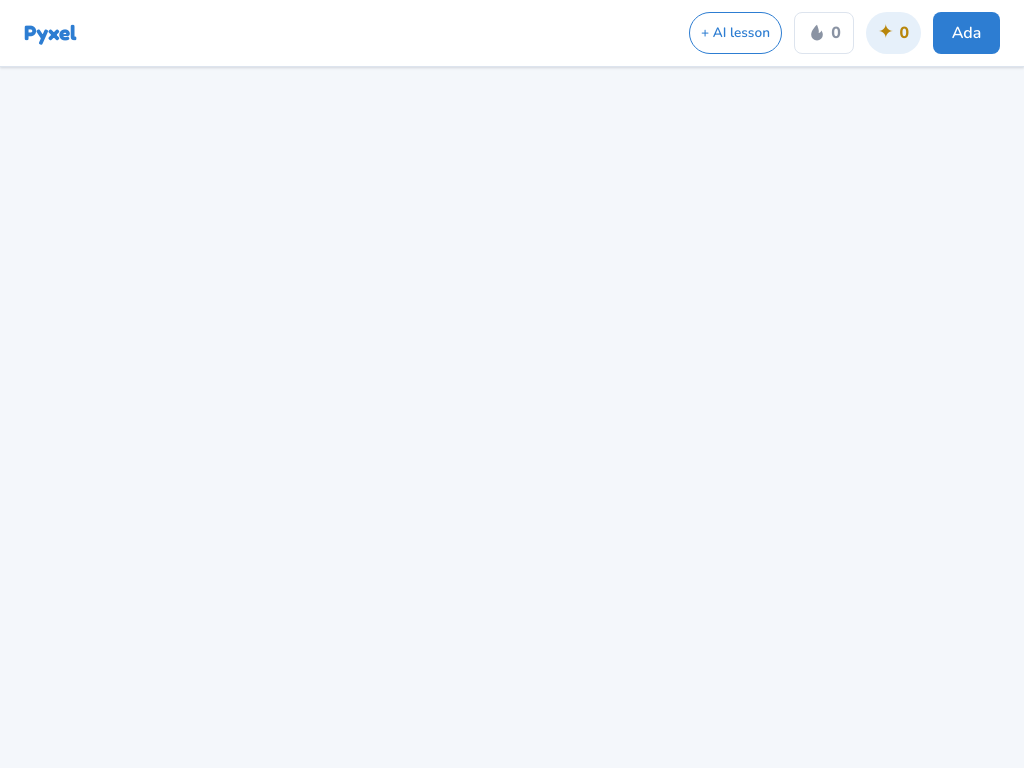
[Phase 1] Nav account menu › toggles dark mode from the account menu
Click the button "Ada" at (966, 33), box [933,12,1000,54]
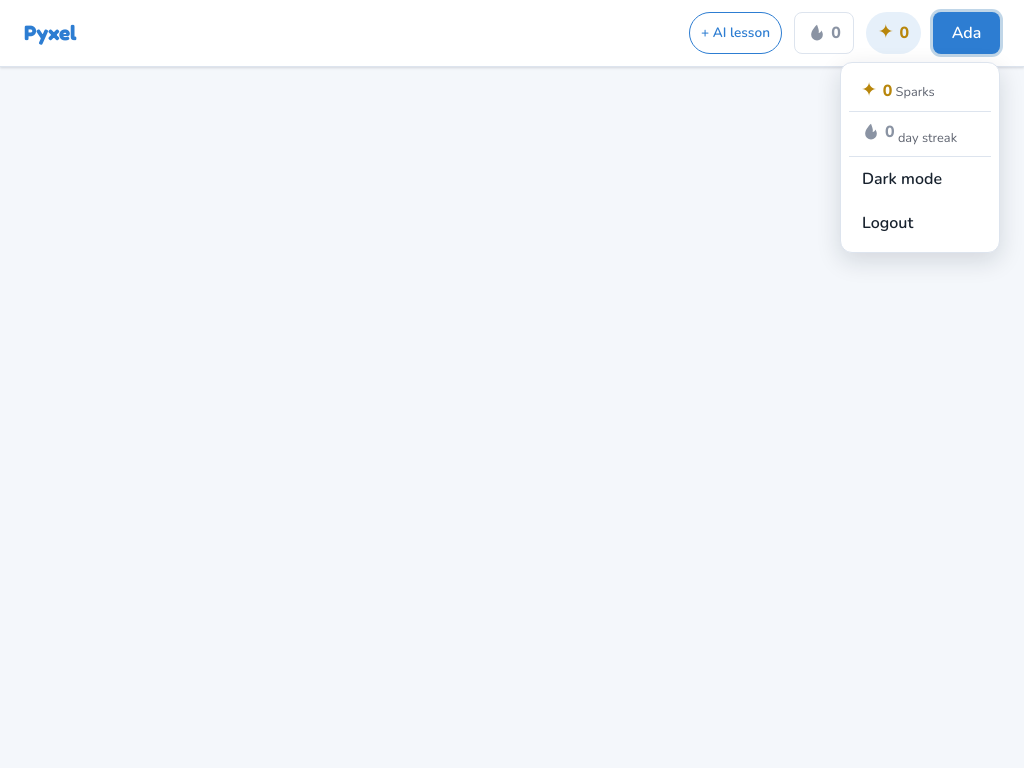
Click the menu item "Dark mode" at (920, 179), box [849,157,991,201]
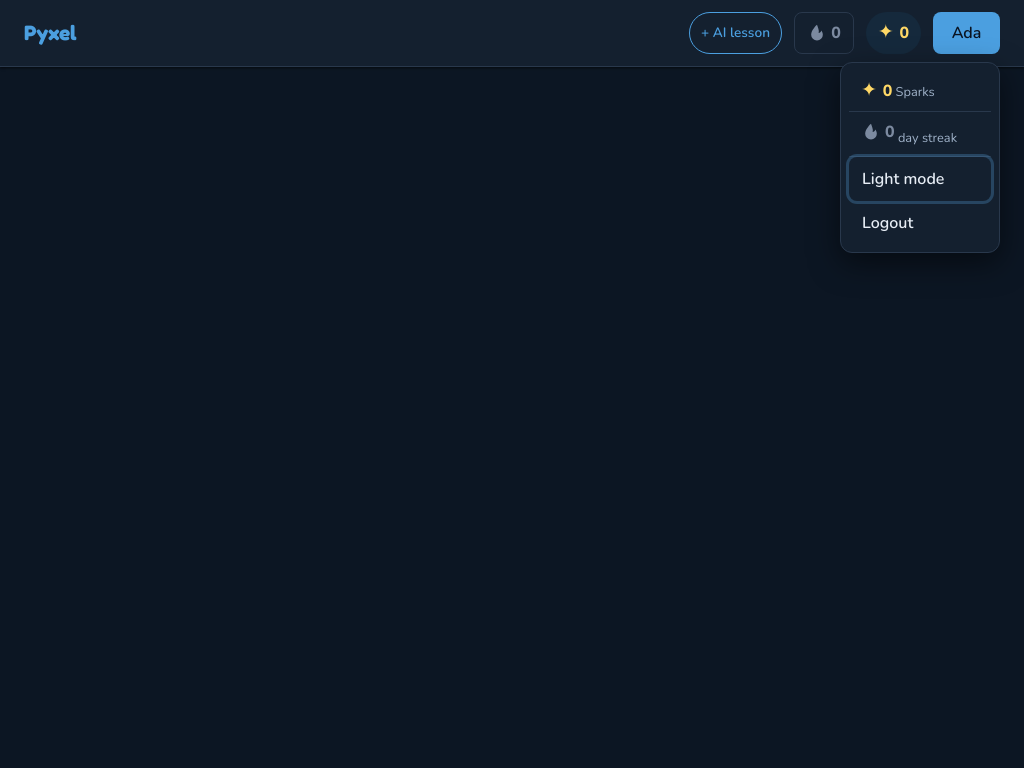
Result: the menu item "Light mode" is shown at [849,157,991,201]
